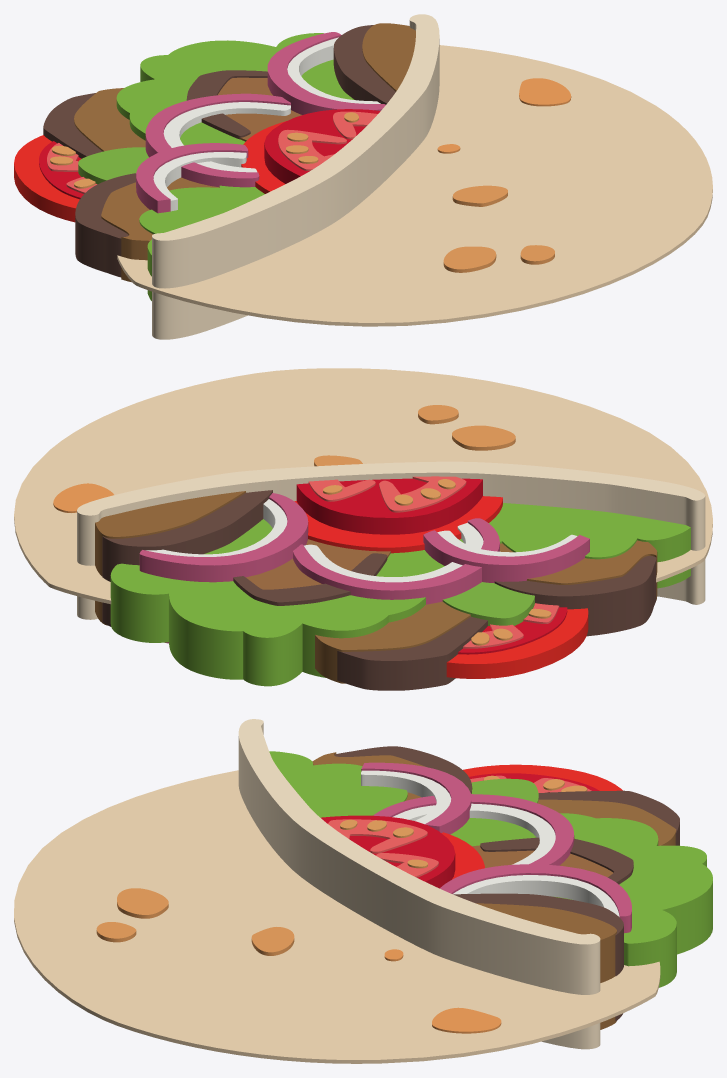
The model's file is emoji_u1f959.glb.
3 renders of one model, top to bottom at view 1: azimuth 30°, elevation 25°; view 2: azimuth 150°, elevation 25°; view 3: azimuth 270°, elevation 25°, orthographic. The views are drawn at different scales.
Visible parts, largest first — view 1: emoji_u1f959; view 2: emoji_u1f959; view 3: emoji_u1f959.
Boxes of the visible parts, left/top/right/bottom form: emoji_u1f959: left=14, top=14, right=712, bottom=339; emoji_u1f959: left=14, top=368, right=712, bottom=690; emoji_u1f959: left=14, top=719, right=712, bottom=1063.
Size of the model in its own units: 0.0338 by 0.0056 by 0.0338.
